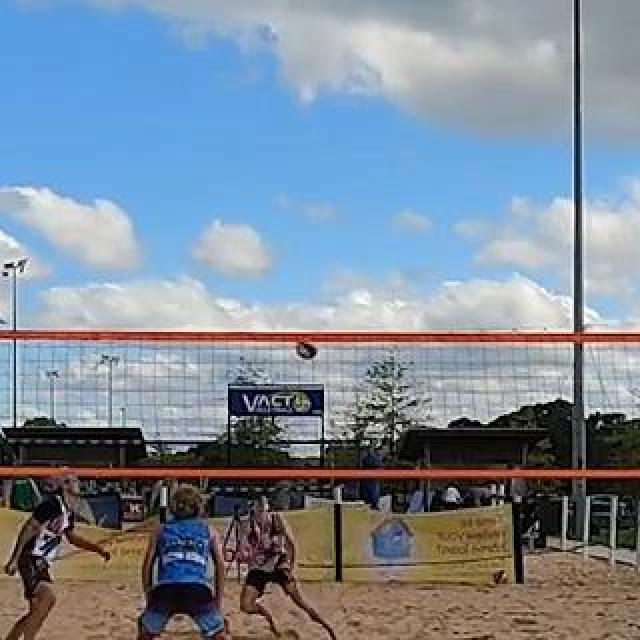volleyball: (295, 342, 315, 362), (493, 568, 509, 584)
